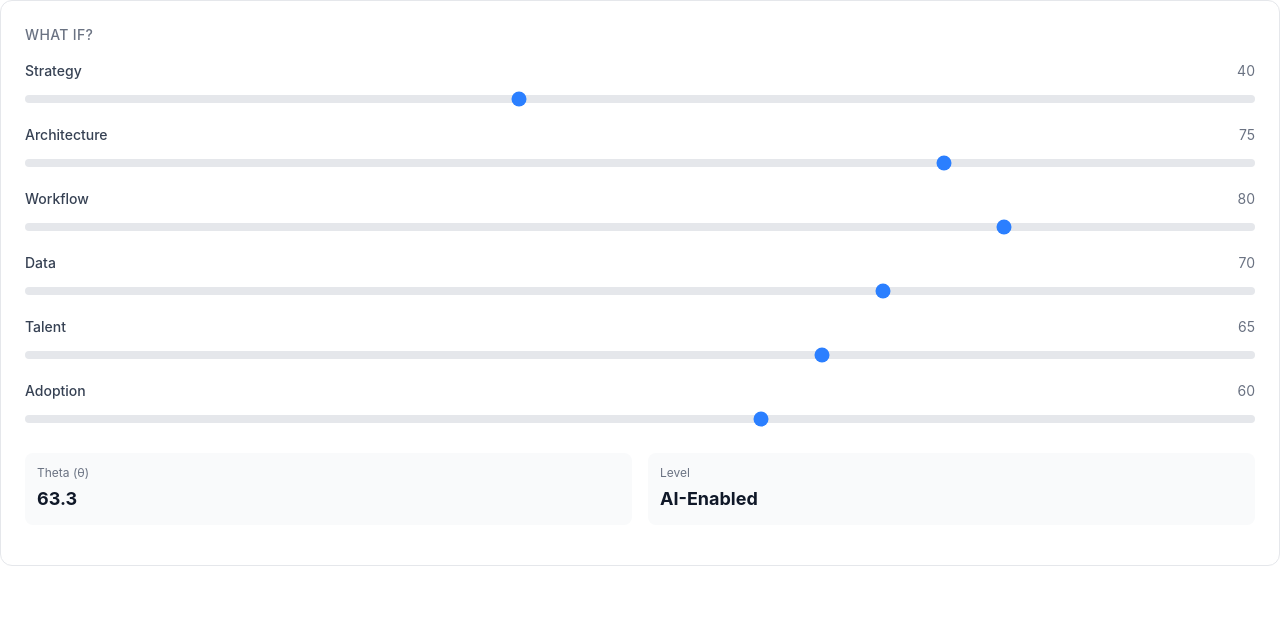
WhatIfPanel › resets all sliders and metrics to original values on reset click
Set the slider labelled "Strategy" to "90": (1126, 99) [25,95,1255,103]
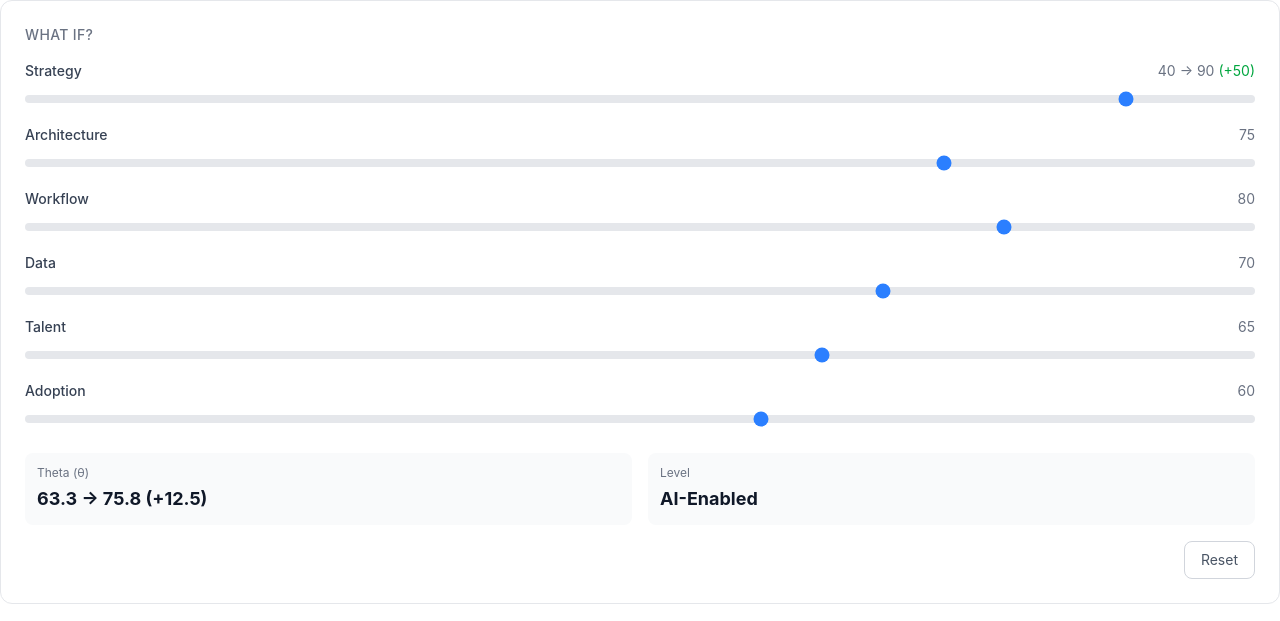
Click the button "Reset": (1219, 560) [1184,541,1255,579]
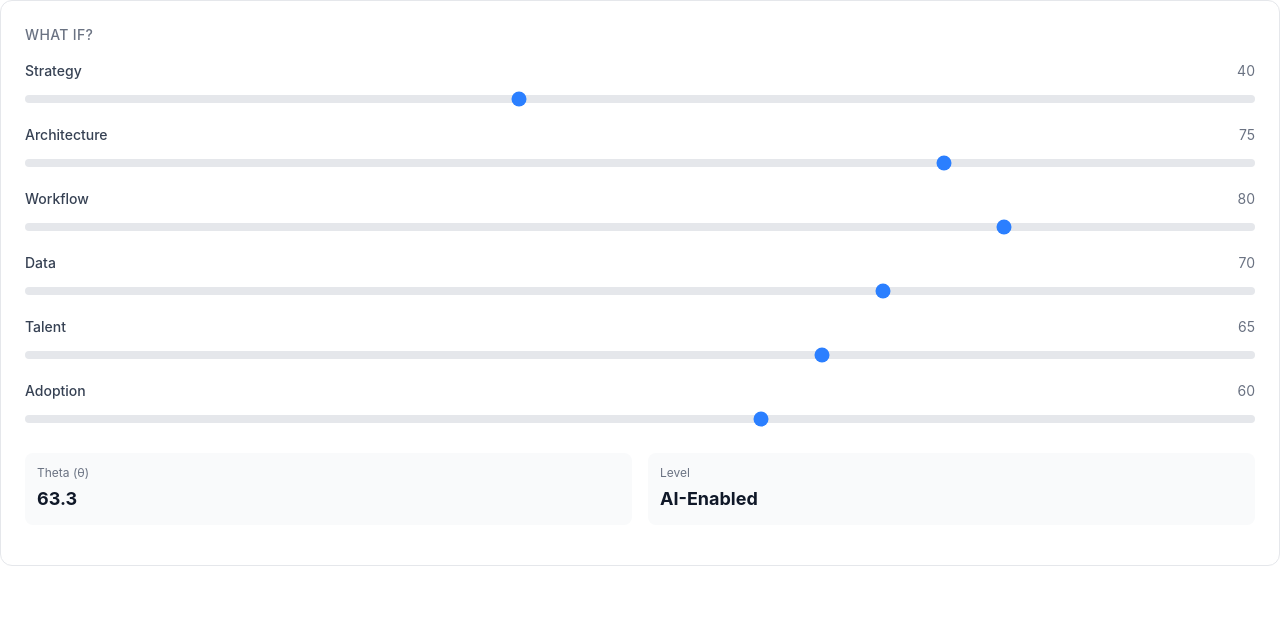
expect the text "63.3" is shown: met, box [37,488,77,509]
expect the slider labelled "Strategy" holds "40": met, box [25,95,1255,103]
